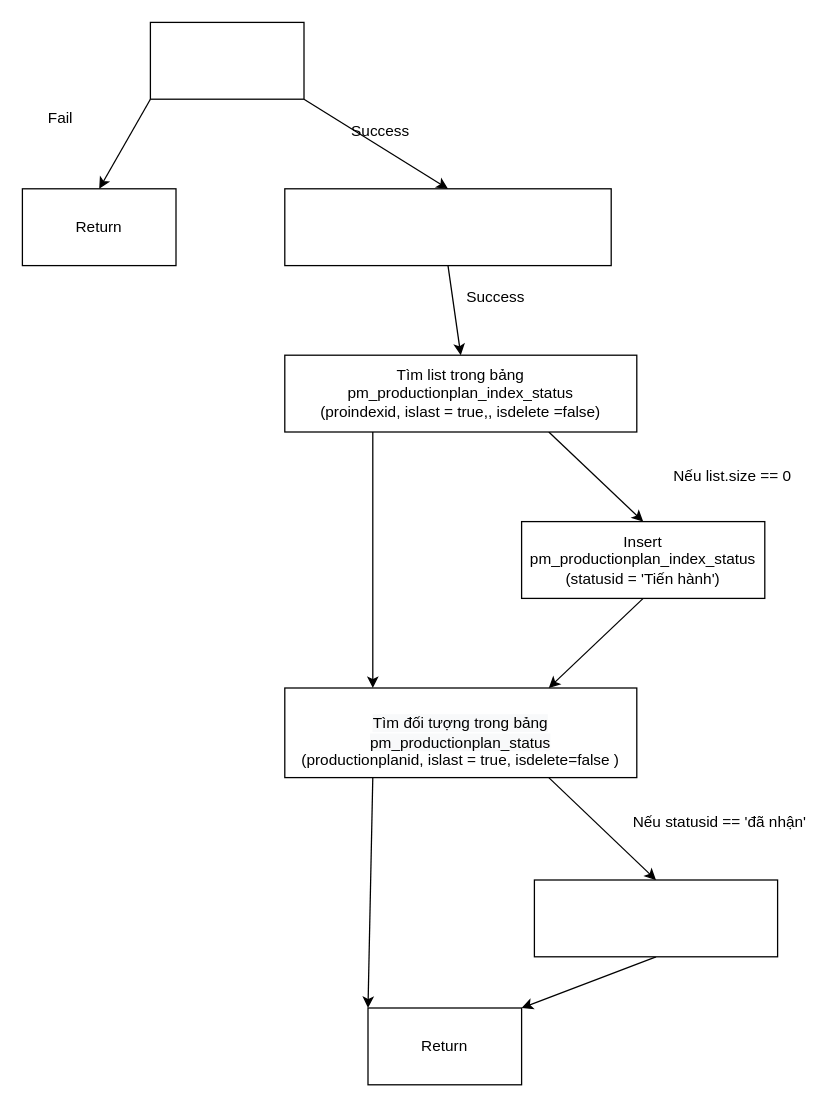
Image size: 838x1107. Some labels were removed from this diagram. The centre of each missing label's shape, as x and y in pixels:
Insert bảng giá trị công việc: (226,60)
Insert bảng pm_logworkgroup (productionplanid, proindexid, workid, typelog): (447,227)
Insert pm_productionplan_status (statusid = 'đang tiến hành'): (655,918)
